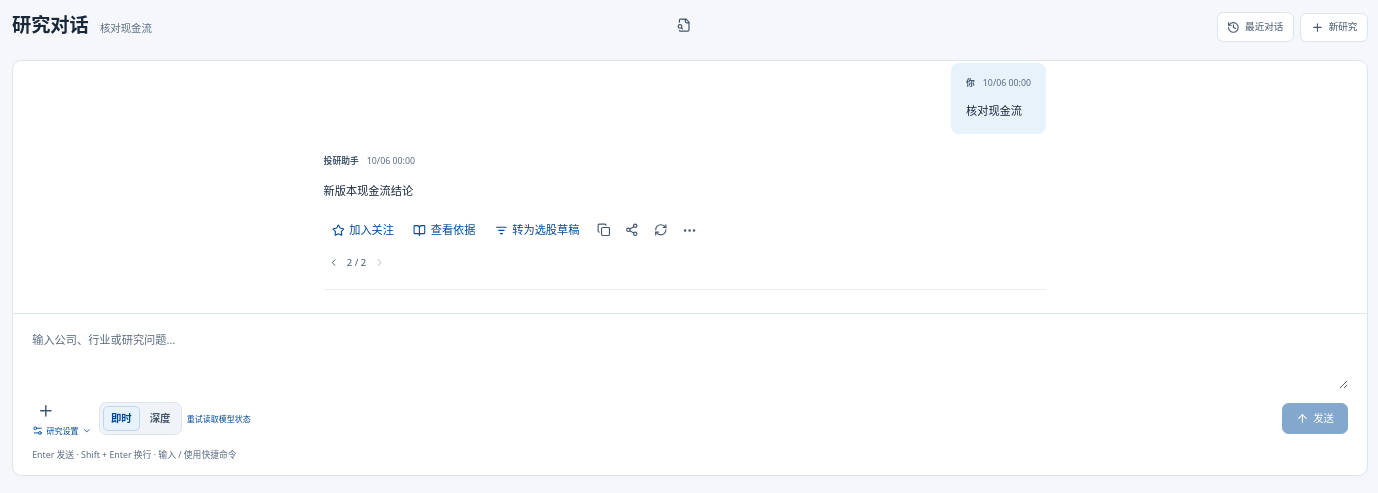
Test: switches preserved answer versions without extra requests or repeated user messages
This screenshot has width=1378, height=493.
(page scrolled)
Expected: the text "新版本现金流结论" is shown, [324,183,413,198]
Expected: the text "经营改善仍需核对现金流。" is not shown
Click the button named "上一个回答版本" at (334, 263), box [324,252,344,273]
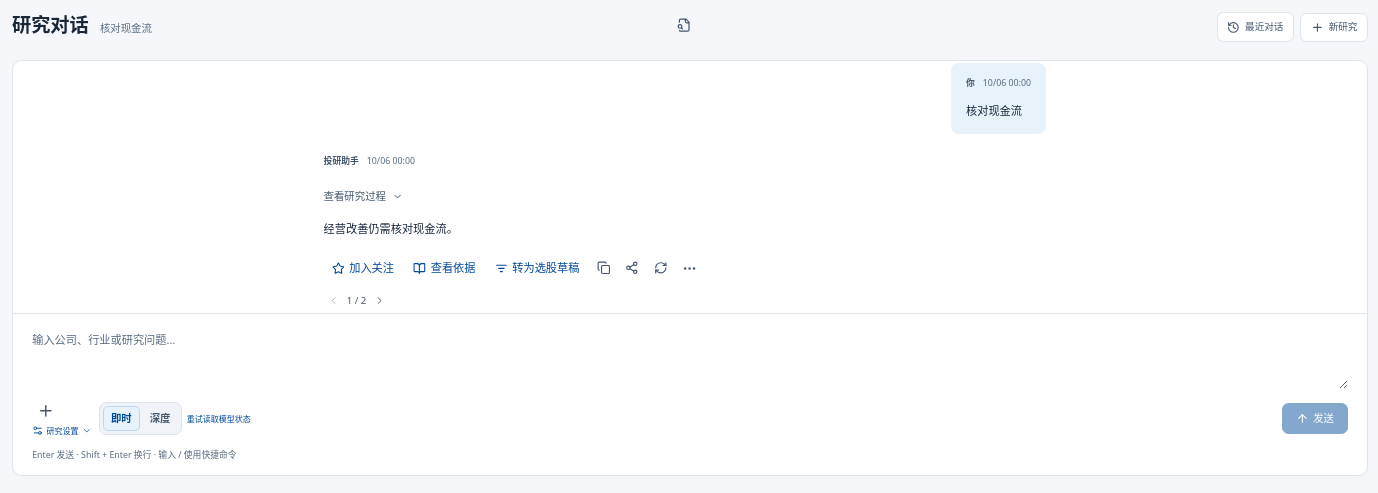
Expected: the text "核对现金流" is shown once, [966,101,1031,122]
Expected: the text "经营改善仍需核对现金流。" is shown, [324,221,458,236]
